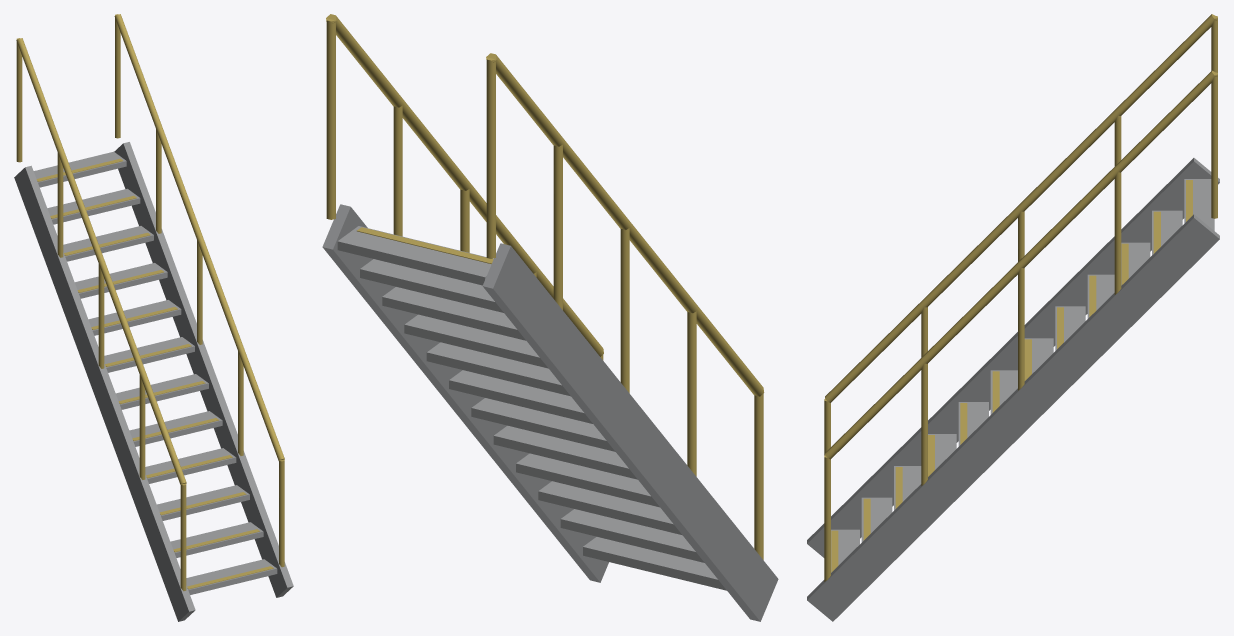
File: ladder_steel.glb
The picture shows the model from 3 angles, left to right: view 1: azimuth 30°, elevation 25°; view 2: azimuth 150°, elevation 25°; view 3: azimuth 270°, elevation 25°; orthographic projection. The views are drawn at different scales.
Parts seen in each view (by area): view 1: ladder_steel; view 2: ladder_steel; view 3: ladder_steel.
Boxes of the visible parts, box(x1,y1,x2,y2) form: ladder_steel: box(14, 14, 293, 621); ladder_steel: box(322, 14, 778, 621); ladder_steel: box(807, 14, 1219, 621).
Size of the model in its own units: 0.81 by 3.44 by 2.35.
